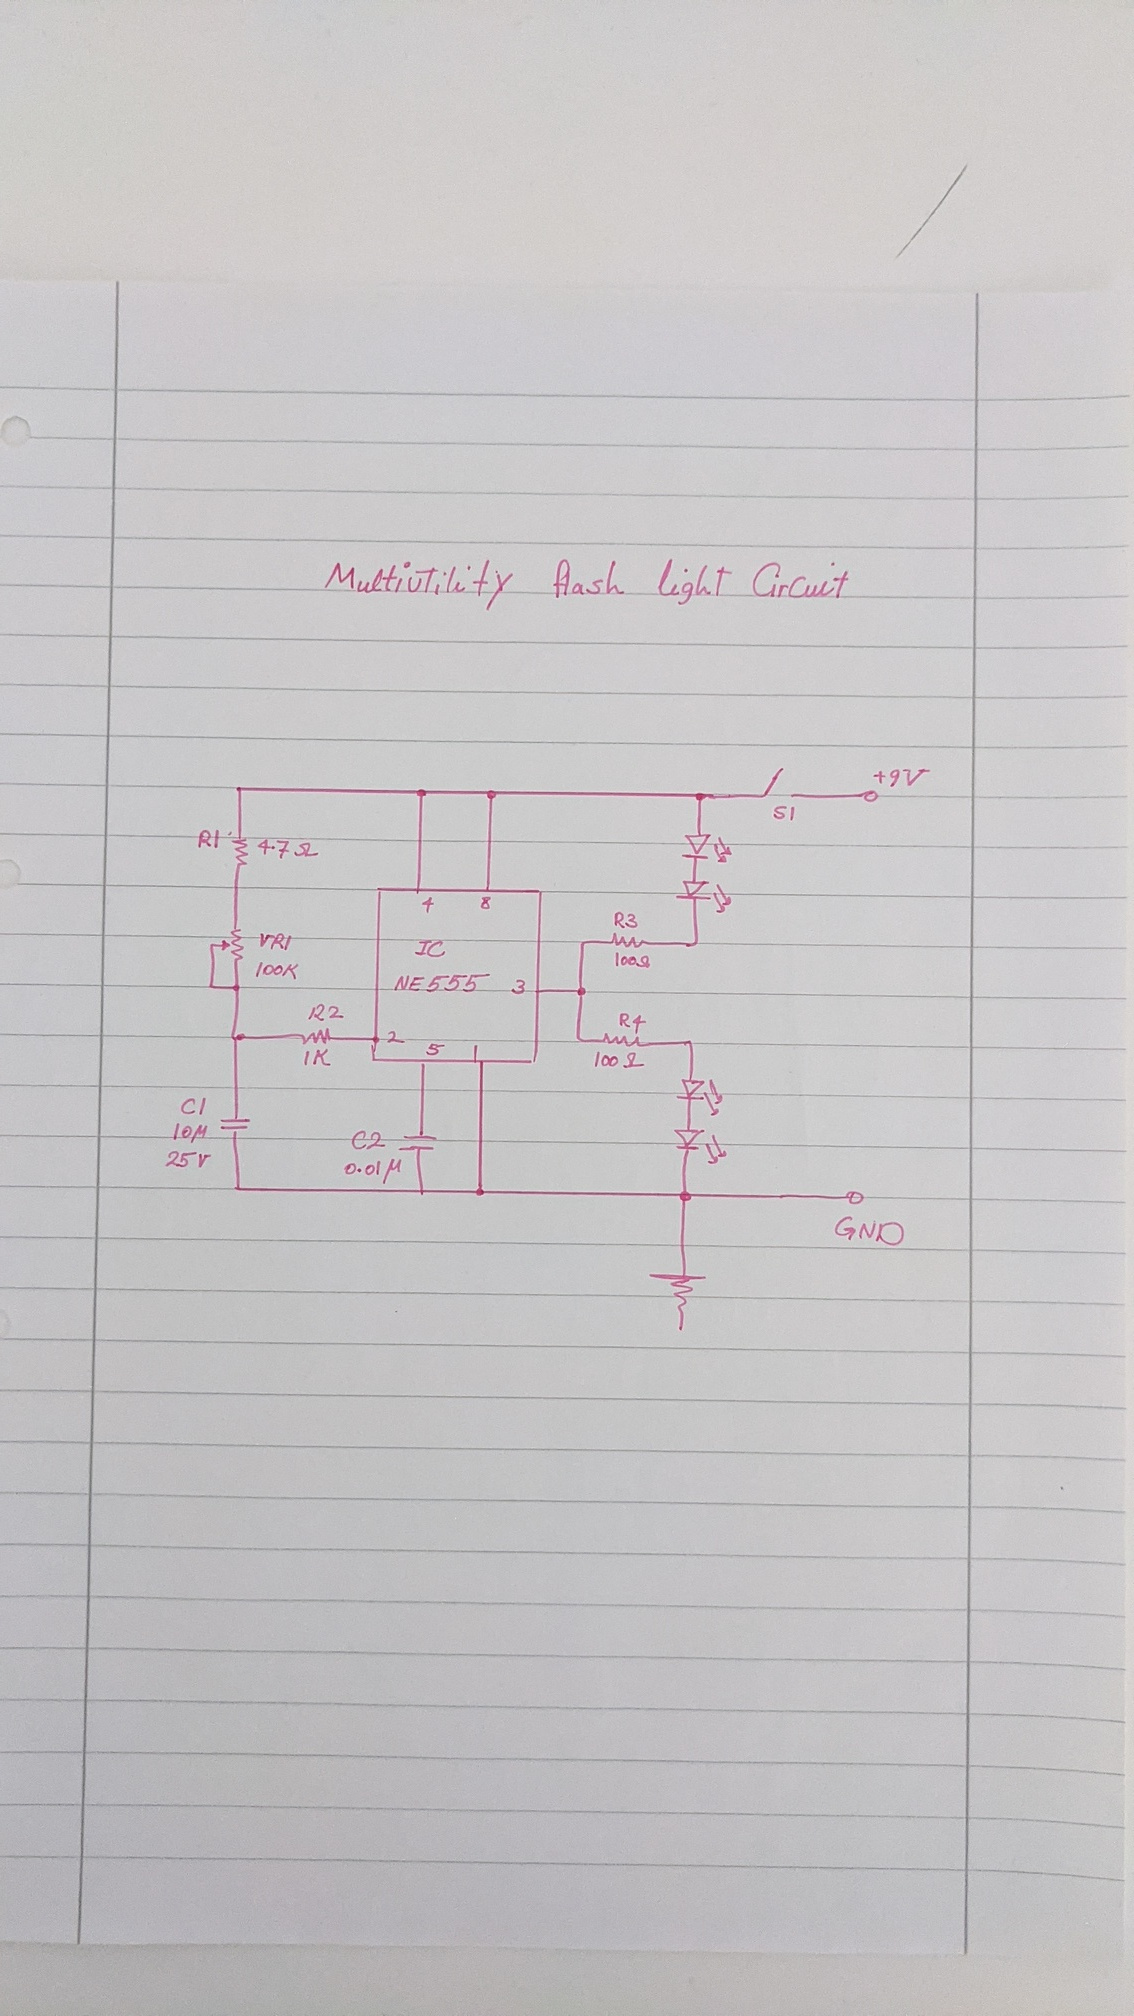capacitor.unpolarized: (396, 1133, 439, 1153), (217, 1115, 252, 1134)
diode.light_emitting: (672, 1127, 728, 1166), (674, 879, 734, 915), (680, 831, 735, 865), (676, 1077, 723, 1117)
gnd: (647, 1270, 708, 1332)
integrated_cricuit.ne555: (368, 883, 546, 1070)
junction: (677, 1189, 694, 1203), (228, 1032, 246, 1043), (575, 984, 588, 998), (692, 791, 708, 803), (414, 786, 428, 799), (485, 789, 498, 800), (474, 1187, 486, 1198), (690, 937, 701, 950), (415, 1185, 426, 1196), (233, 1182, 244, 1194), (577, 937, 588, 948), (231, 982, 244, 991), (684, 1037, 696, 1047), (573, 1036, 584, 1045), (234, 785, 245, 793), (208, 942, 217, 950), (208, 980, 215, 991)
resistor: (295, 1025, 332, 1045), (601, 1032, 645, 1048), (228, 836, 251, 870), (609, 930, 649, 948)
resistor.adjustable: (219, 926, 246, 964)
switch: (762, 766, 796, 800)
terminal: (845, 1189, 865, 1206), (858, 789, 879, 804)
text: (321, 554, 853, 613), (392, 971, 493, 996), (834, 1216, 906, 1248), (343, 1158, 404, 1185), (255, 836, 320, 861), (872, 766, 932, 789), (593, 1050, 647, 1070), (163, 1149, 213, 1170), (253, 960, 300, 980), (350, 1128, 388, 1152), (170, 1122, 208, 1145), (258, 930, 294, 953), (307, 1002, 345, 1023), (413, 937, 447, 960), (613, 950, 652, 969), (618, 1011, 647, 1036), (194, 827, 222, 852), (179, 1095, 208, 1117), (302, 1047, 332, 1068), (613, 910, 640, 930), (773, 804, 796, 822), (385, 1029, 408, 1045), (508, 978, 528, 997), (420, 894, 438, 914), (424, 1041, 444, 1056), (478, 894, 492, 911), (469, 1043, 480, 1063)
